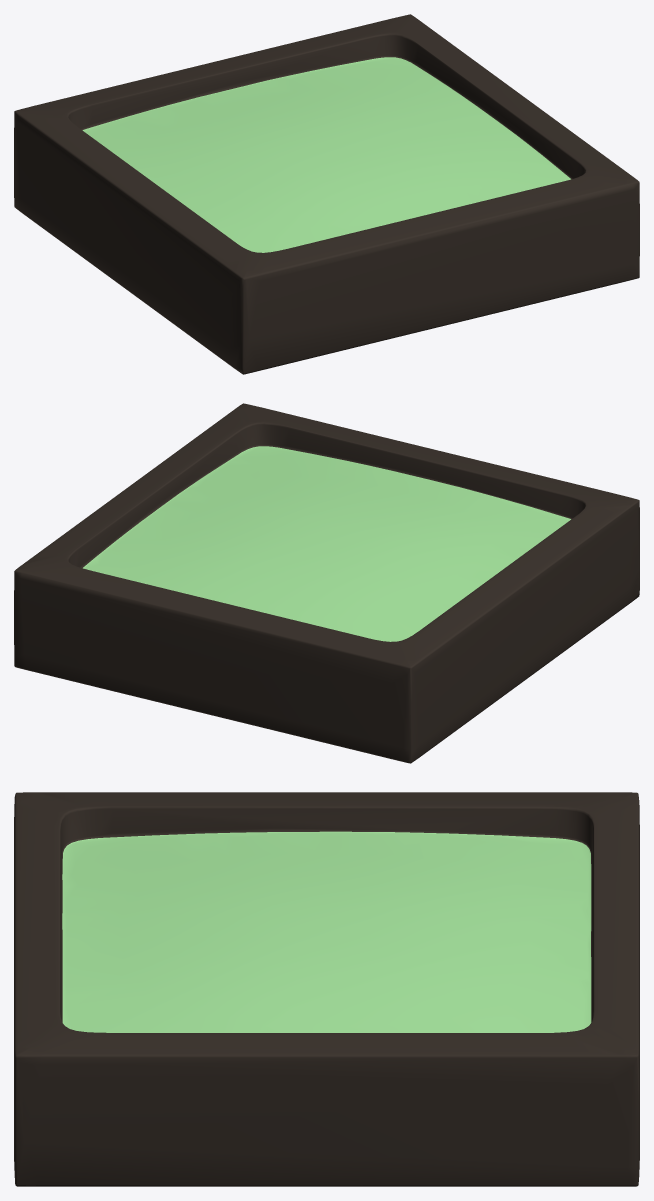
Rendered from CharaNoDecimate.glb.
3 views of the same model, one above another, from view 1: azimuth 30°, elevation 25°; view 2: azimuth 150°, elevation 25°; view 3: azimuth 270°, elevation 25° (orthographic). The views are drawn at different scales.
Visible parts, largest first — view 1: CharaDecimate; view 2: CharaDecimate; view 3: CharaDecimate.
Part boxes in pixels (<box>): CharaDecimate: <box>14,14,639,374</box>; CharaDecimate: <box>14,403,639,763</box>; CharaDecimate: <box>14,792,639,1186</box>.
Size of the model in its own units: 2 by 0.479 by 2.
